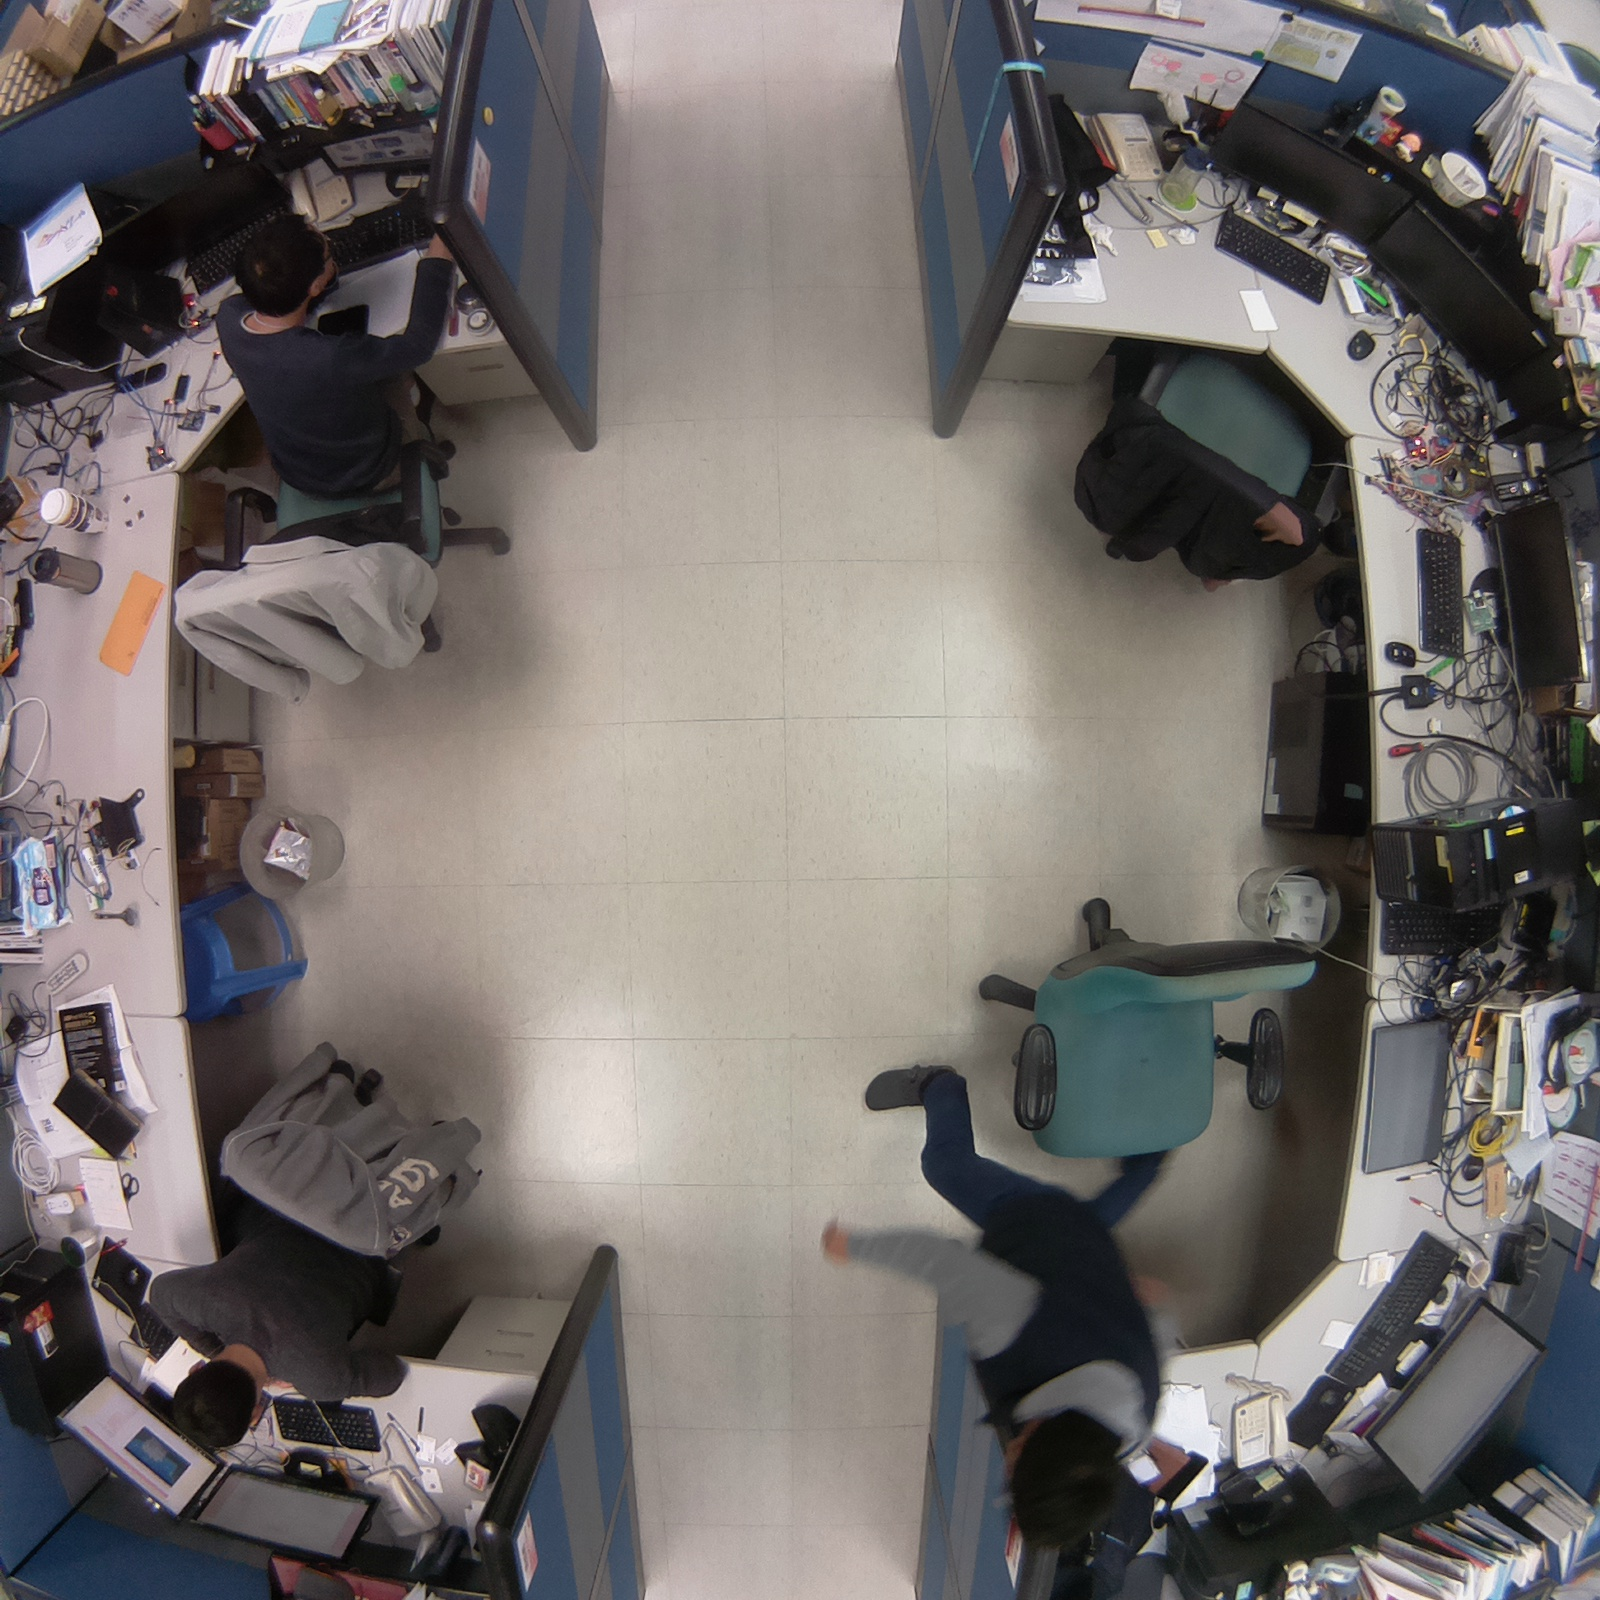chair: (960, 865, 1340, 1173), (1053, 322, 1373, 609)
head: (1004, 1408, 1127, 1553), (223, 202, 344, 317), (166, 1353, 261, 1455)
sitting: (163, 188, 522, 727), (127, 1034, 504, 1451)
walking: (819, 1051, 1184, 1551)
